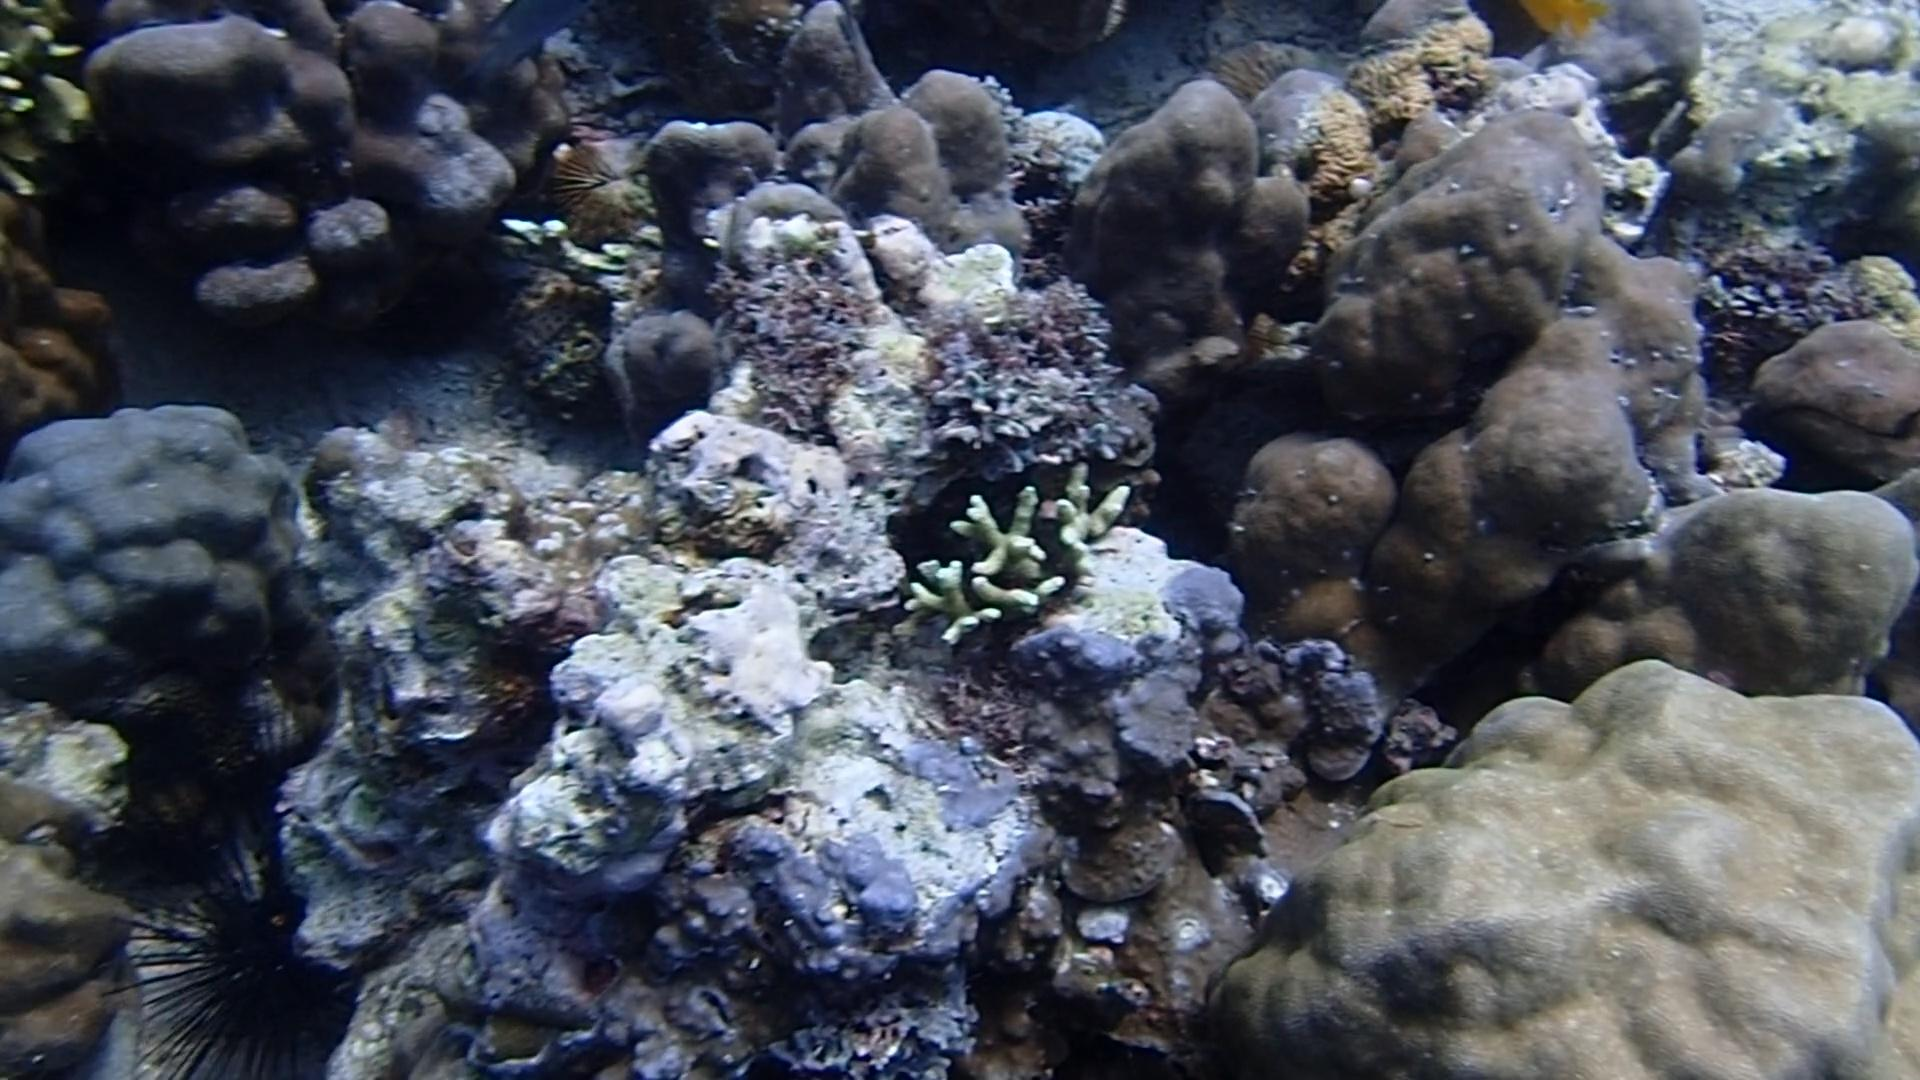Blue Fish Two: (462, 0, 611, 98)
Yellow Fish: (1513, 0, 1597, 55)
